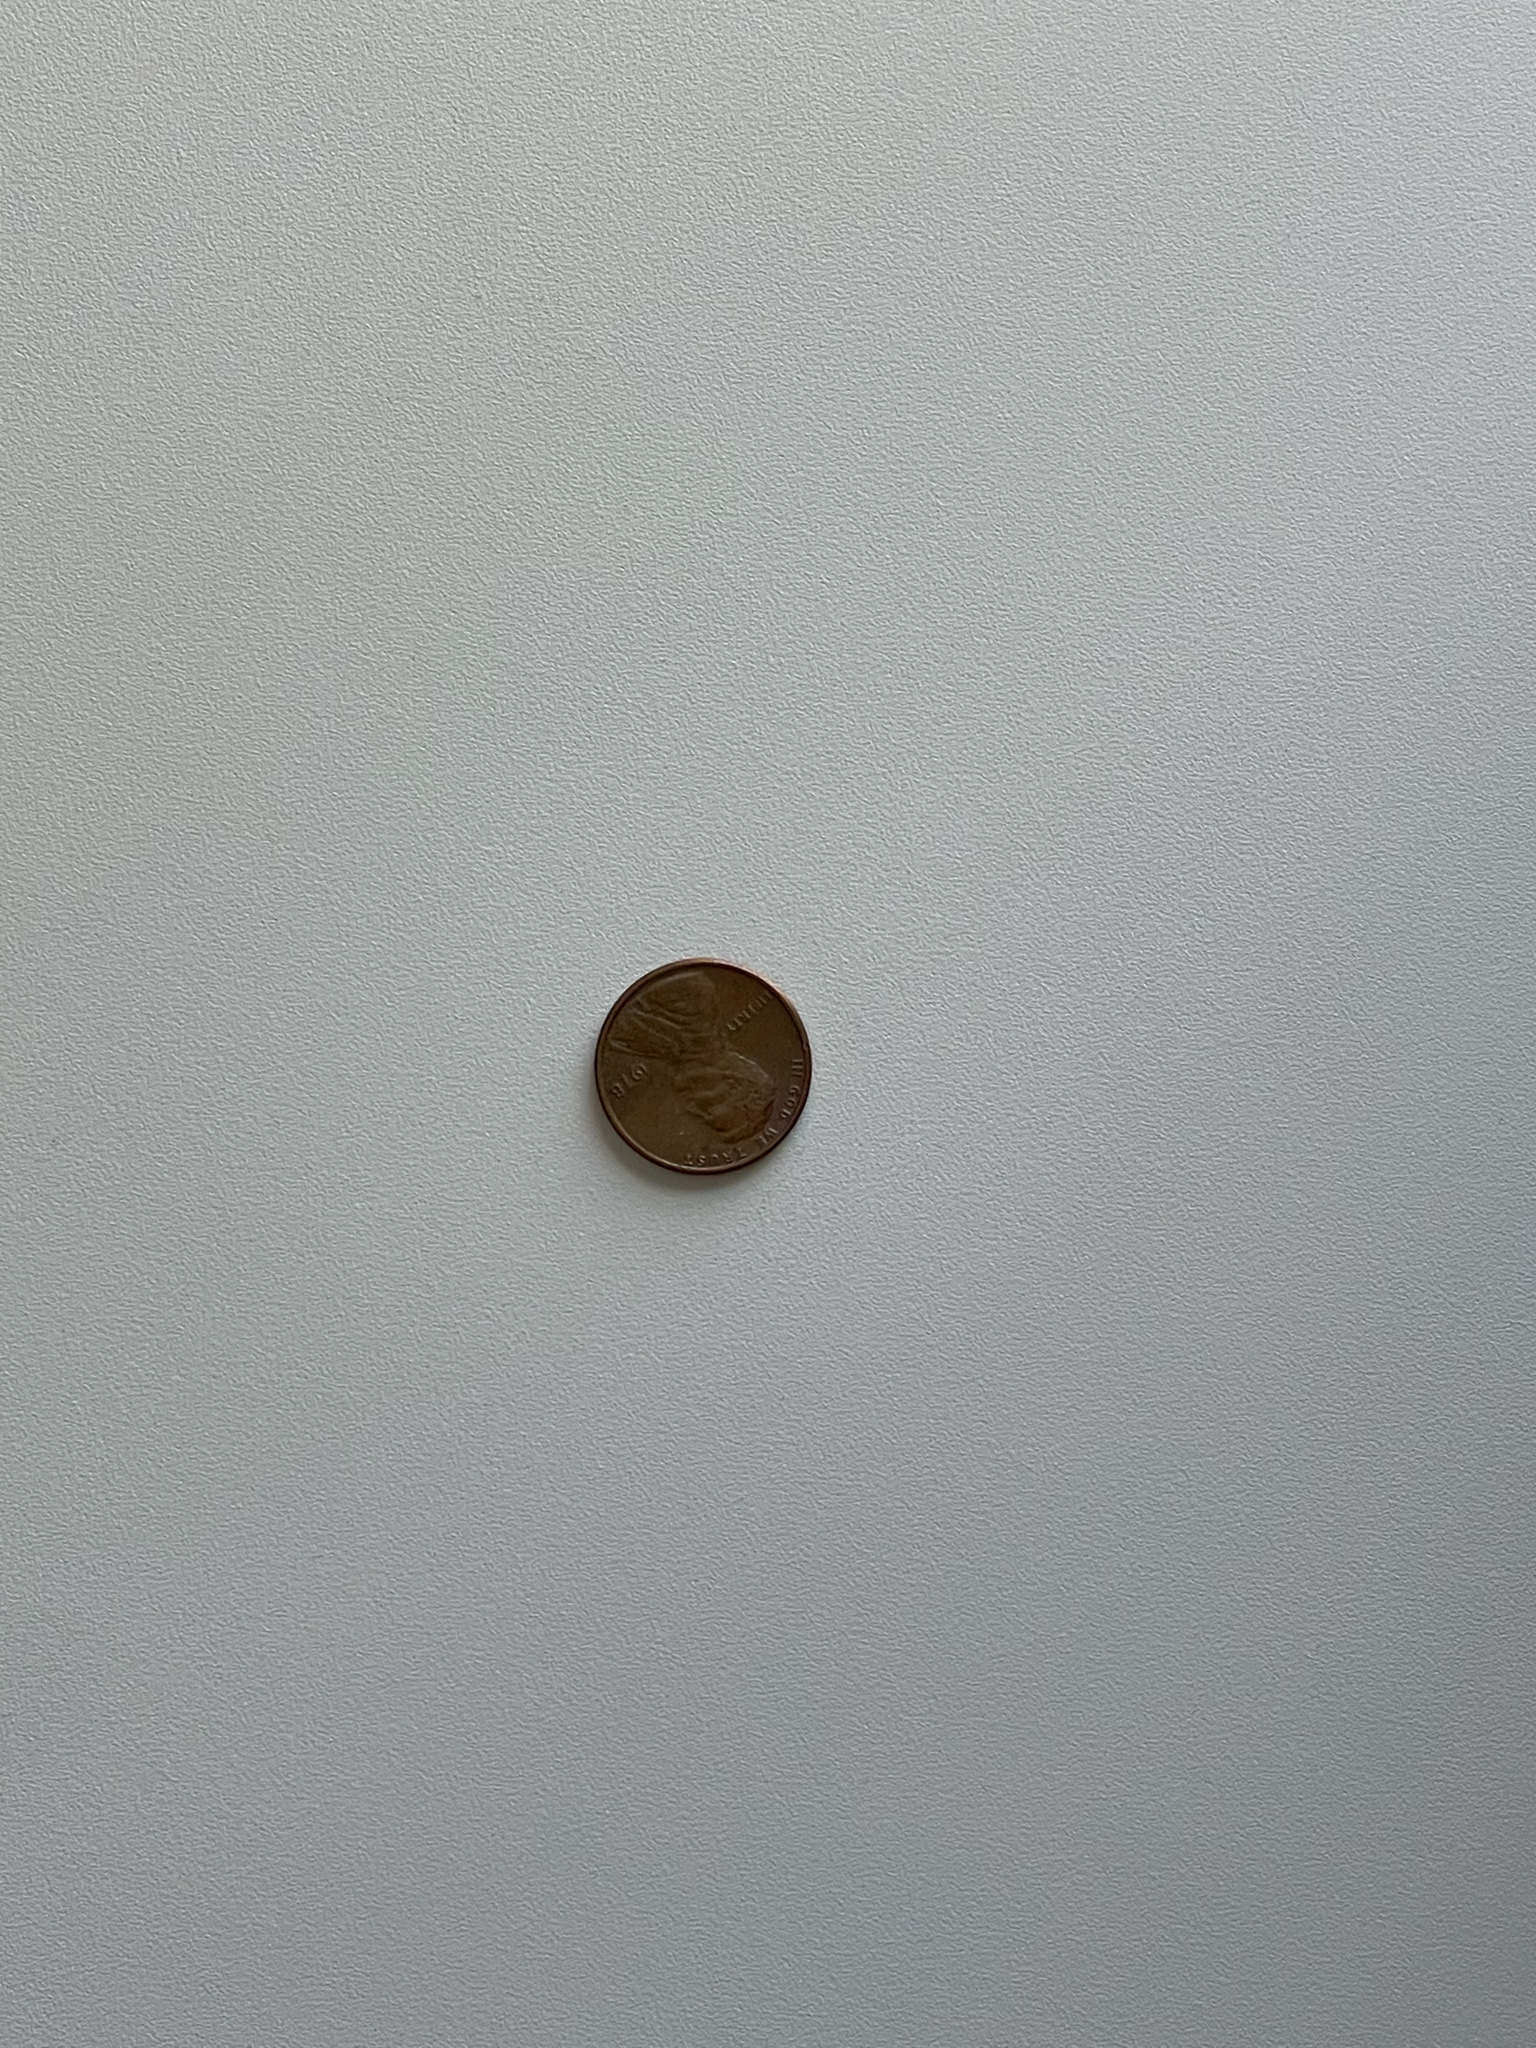penny: (587, 948, 821, 1184)
